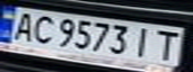3: (106, 22, 133, 56)
5: (72, 17, 93, 52)
7: (90, 20, 112, 54)
9: (51, 16, 78, 48)
A: (6, 10, 39, 43)
C: (27, 12, 57, 46)
I: (130, 25, 157, 60)
T: (148, 28, 184, 61)
